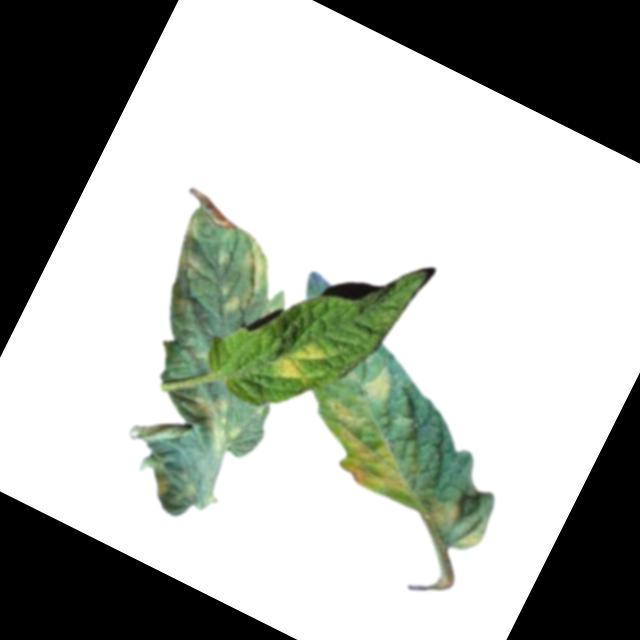Leaf_Mold: (297, 387, 437, 507), (181, 388, 251, 454), (226, 235, 283, 304), (269, 327, 330, 391), (416, 486, 465, 535), (357, 355, 401, 404), (166, 246, 204, 280), (456, 520, 489, 554), (218, 290, 241, 313)
